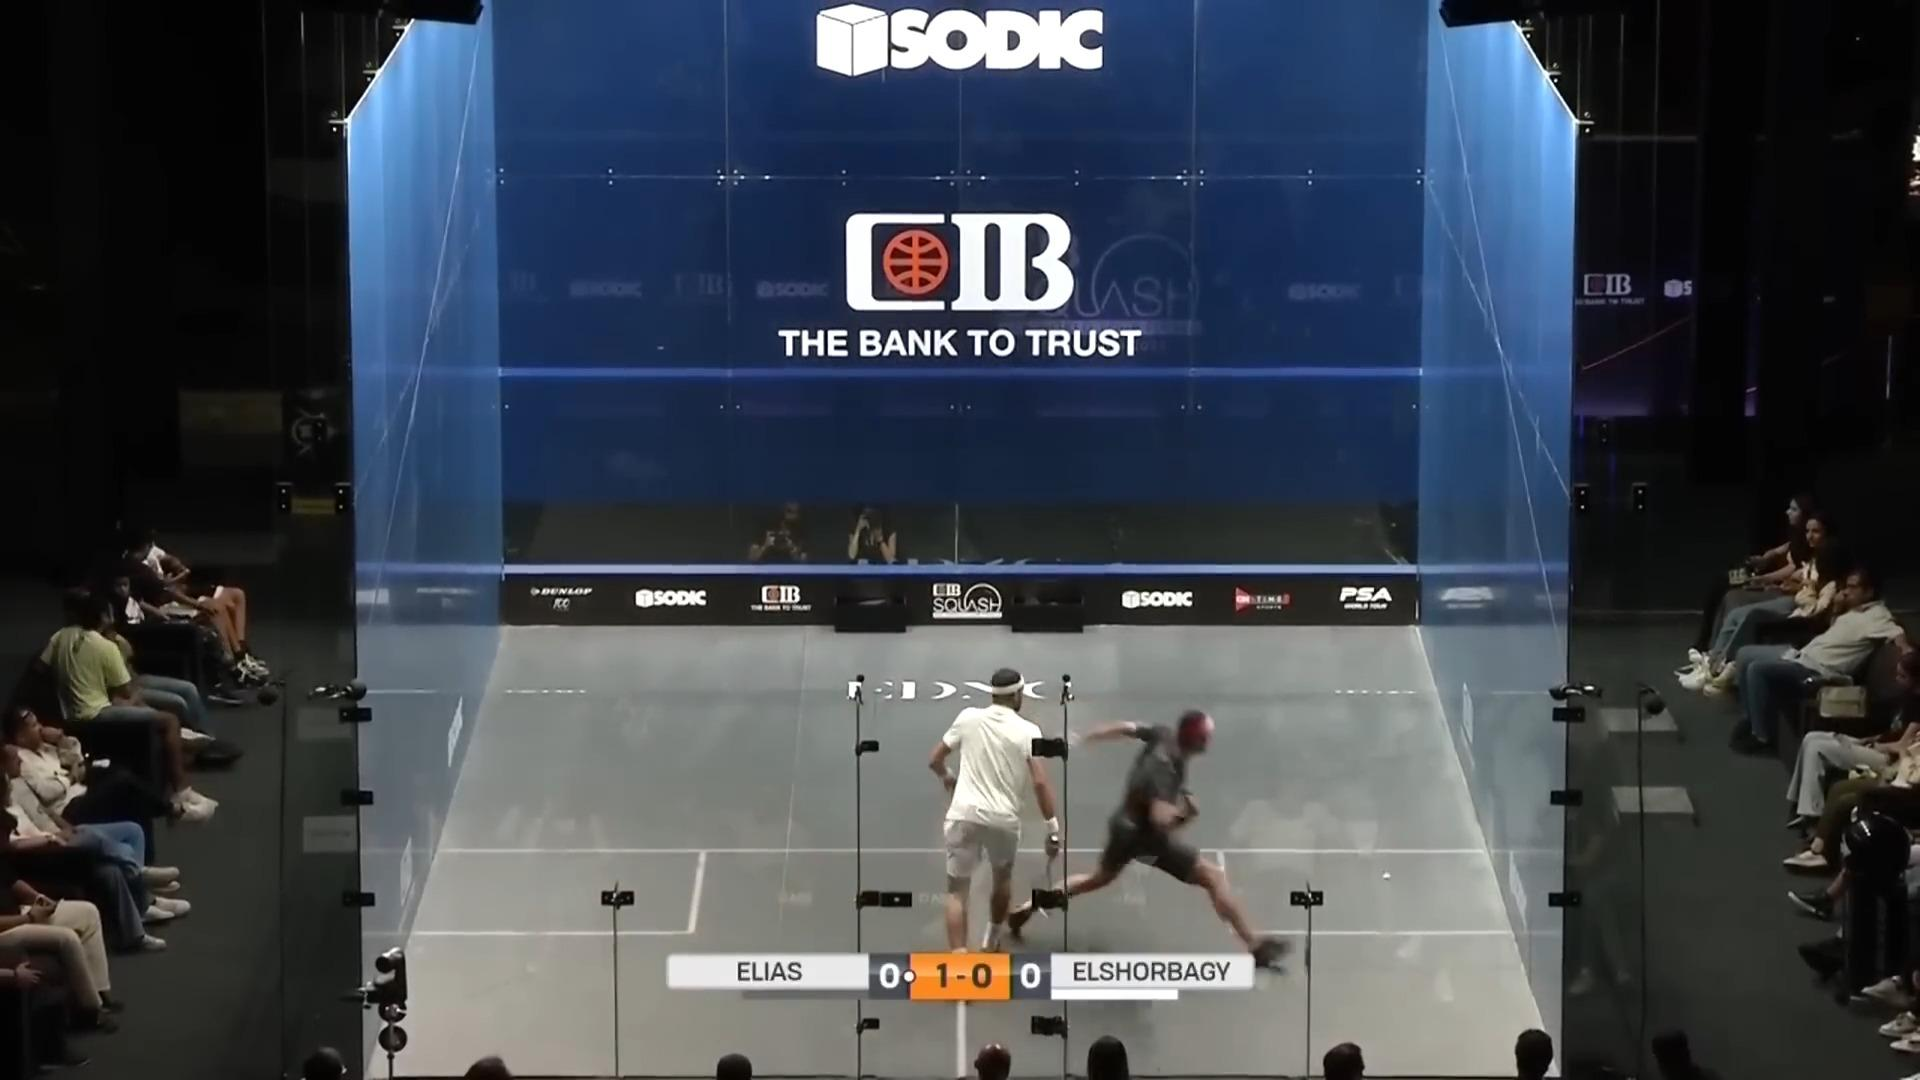Squash-Ball: (1374, 866, 1399, 887)
